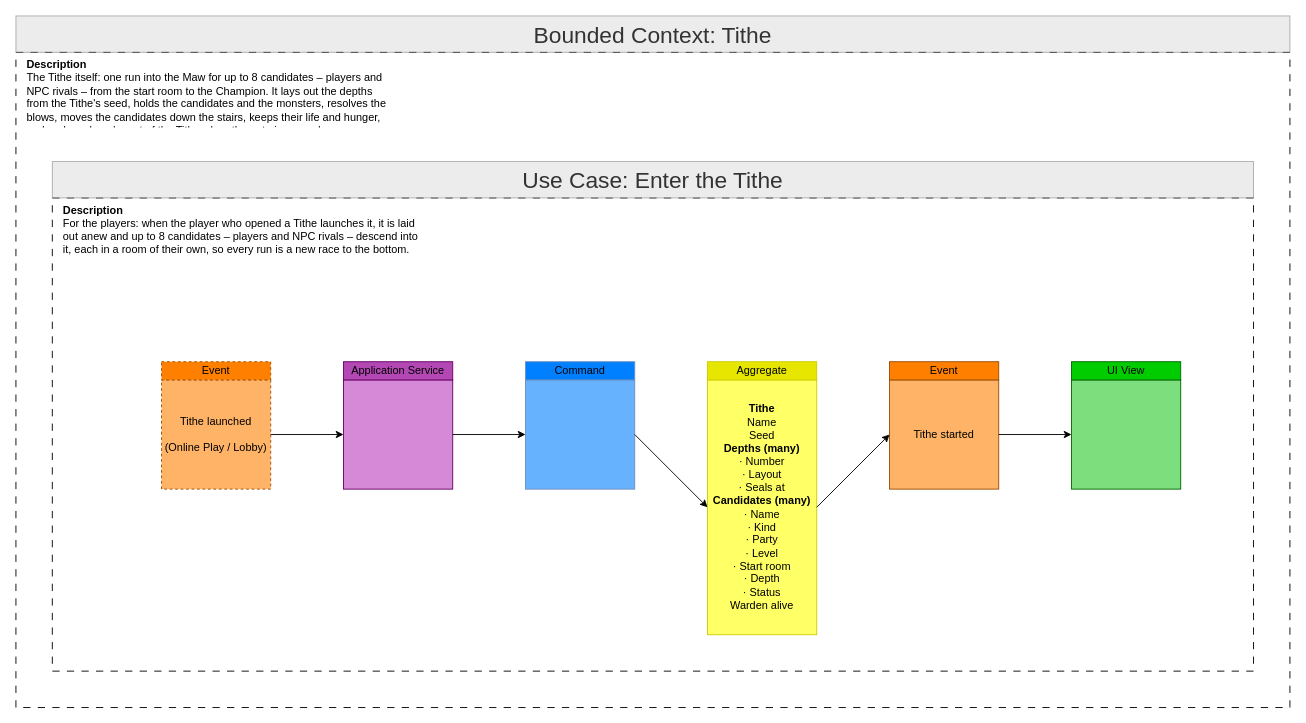
The diagram is 1306 pixels wide and 723 high, and some of its shapes have lost their labels. Here are the shapes that lost their labels. From the top down, the centre of each, then its label:
the point at 398,434: Tithe master
the point at 580,434: Start the Tithe Players (many) · Player · Character NPC rivals
the point at 1126,434: Depth Player
